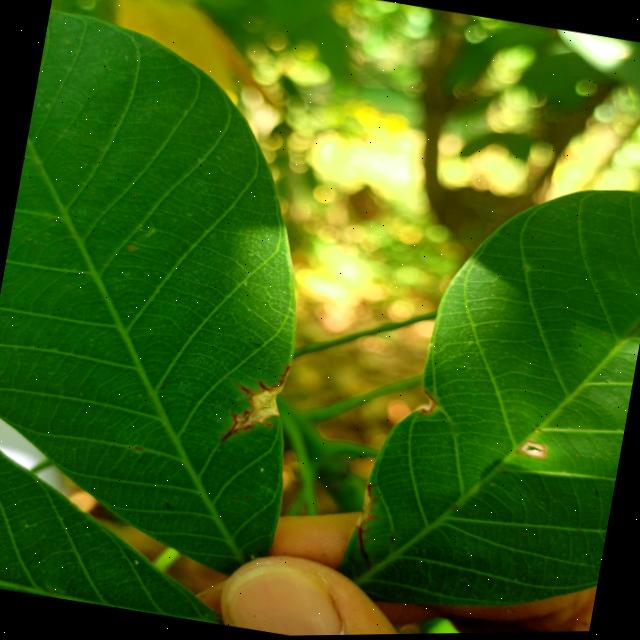Corynespora: (220, 356, 290, 451), (347, 482, 385, 569)
